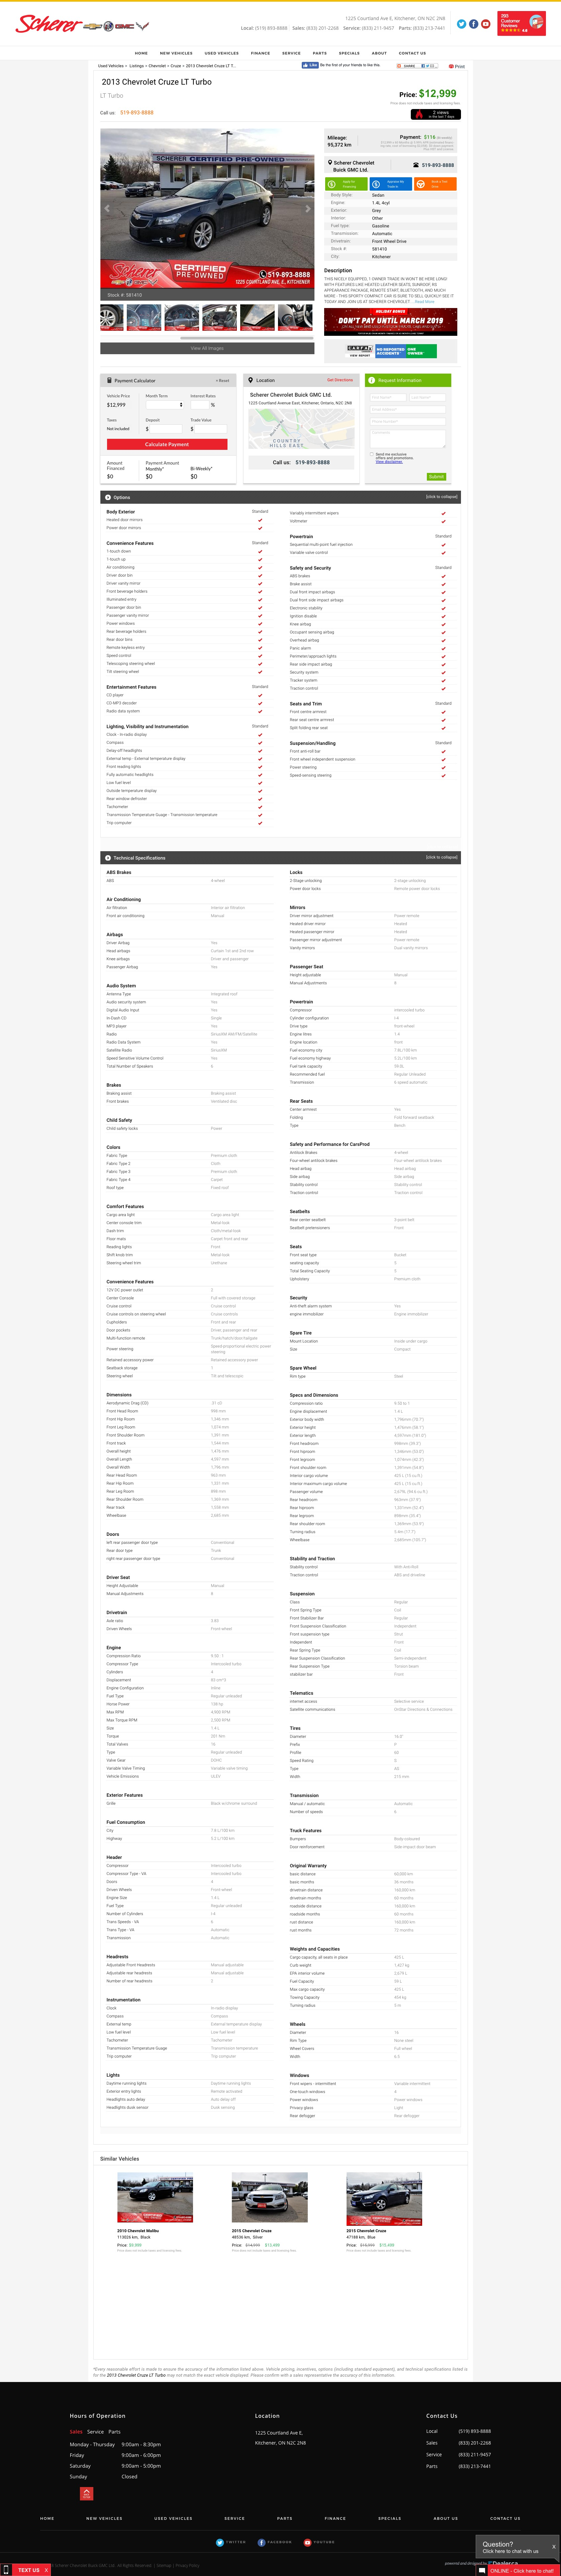car: (299, 200, 316, 218)
